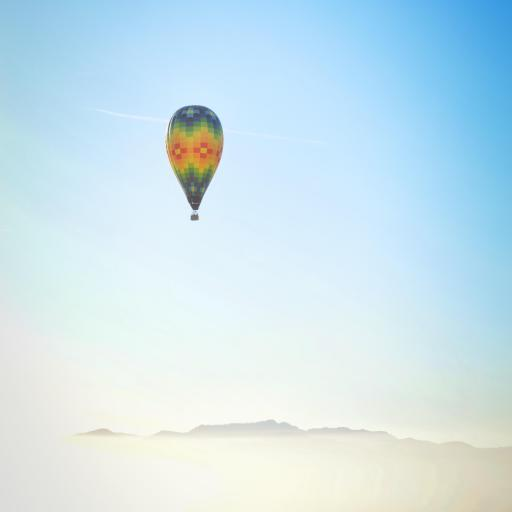hot air ballon: (165, 105, 224, 220)
